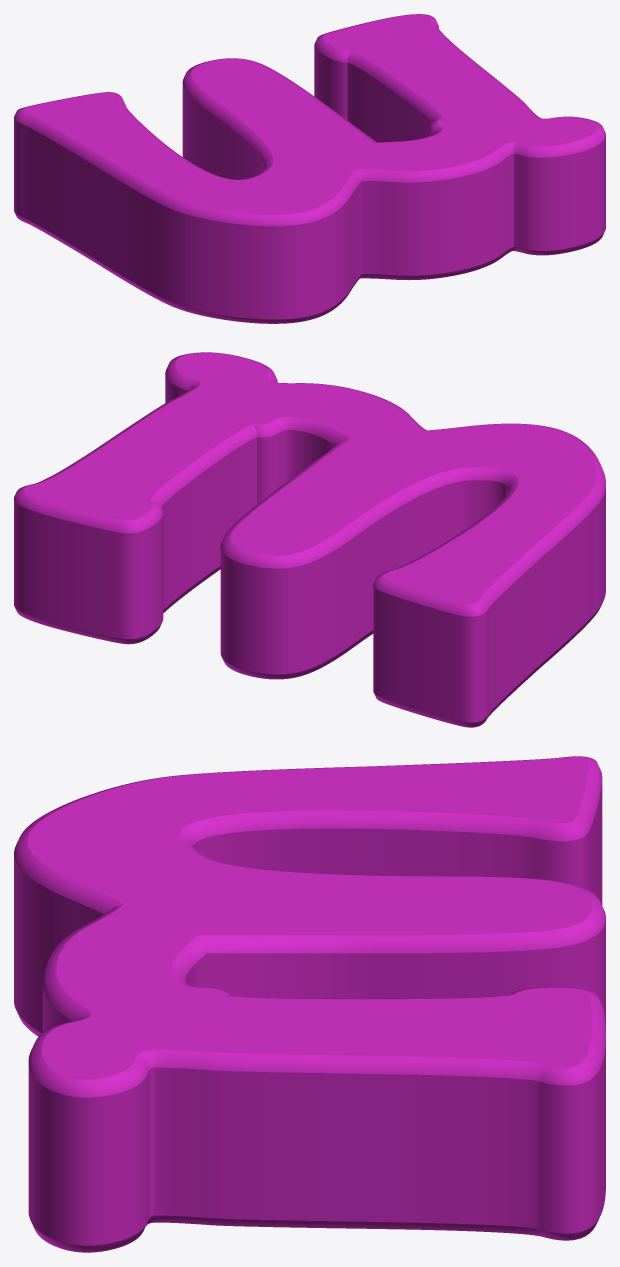
Rendered from Bubble_Letter_m.fbx.
The picture shows the model from 3 angles, top to bottom: view 1: azimuth 30°, elevation 25°; view 2: azimuth 150°, elevation 25°; view 3: azimuth 270°, elevation 25°; orthographic projection. The views are drawn at different scales.
Parts seen in each view (by area): view 1: BubbleLetter_m; view 2: BubbleLetter_m; view 3: BubbleLetter_m.
Boxes of the visible parts, x1,y1,x2,y2 form: BubbleLetter_m: [14, 14, 605, 323]; BubbleLetter_m: [14, 352, 605, 727]; BubbleLetter_m: [14, 756, 605, 1252].
Bounding box in the file's own units: 0.5817 × 0.14 × 0.4353.
